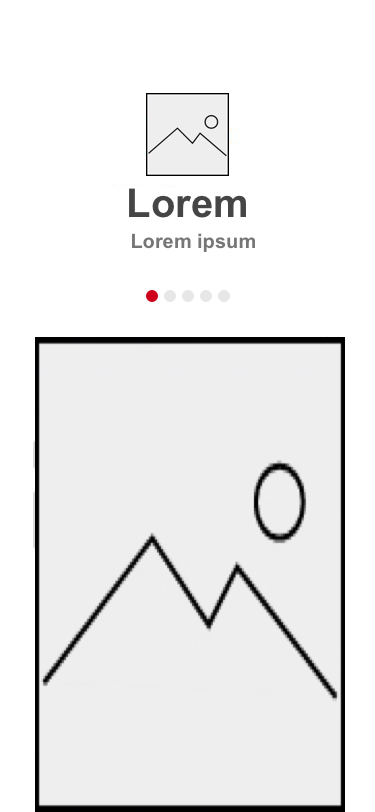Image: (36, 337, 346, 812), (146, 93, 230, 177)
PageIndicator: (146, 289, 231, 303)
Text: (129, 188, 247, 219), (132, 233, 256, 253)
